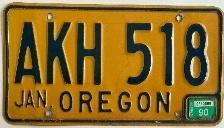1: (156, 23, 180, 88)
5: (123, 22, 157, 87)
8: (183, 22, 211, 88)
A: (13, 19, 44, 86)
H: (74, 22, 108, 87)
K: (46, 19, 74, 87)
